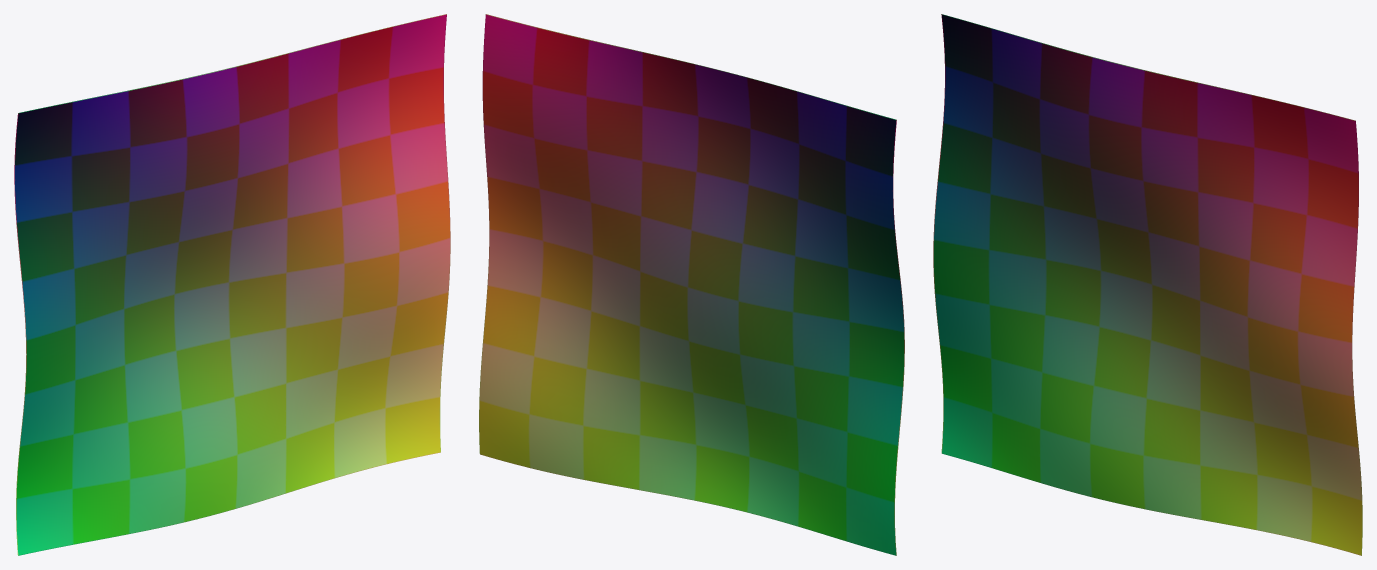
File: Tile_+003_+015.obj
The picture shows the model from 3 angles, left to right: view 1: azimuth 30°, elevation 25°; view 2: azimuth 150°, elevation 25°; view 3: azimuth 330°, elevation 25°; orthographic projection.
Size of the model in its own units: 100 by 100 by 5.99.
